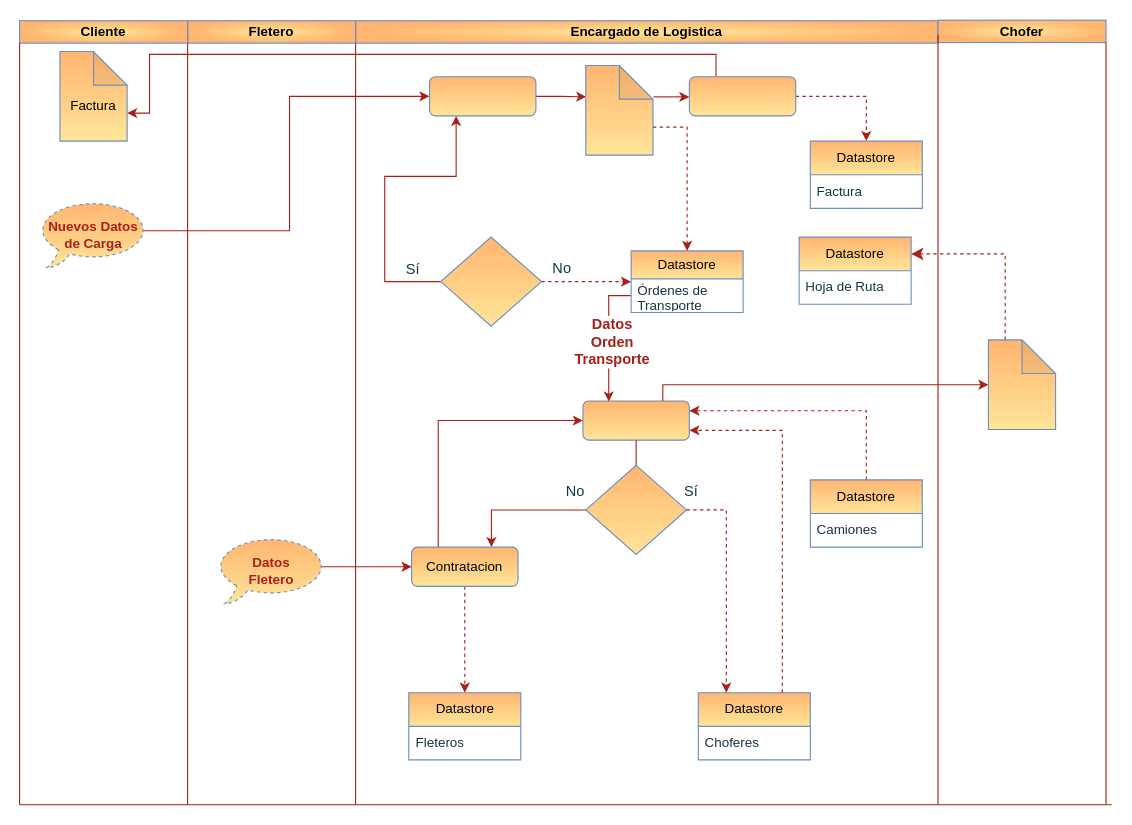
Image size: 1132x825. Some labels were removed from this diagram. Each missing label, with the centre of its shape:
"Asignar Unidades" goes at point 635,420.
"Facturar" goes at point 742,96.
"Hoja Ruta" goes at point 1021,384.
"Modificar Carga" goes at point 482,96.
"Orden Transporte" goes at point 619,109.
"¿Chofer Disponible?" goes at point 636,509.
"¿Hay Modificación?" goes at point 491,281.
